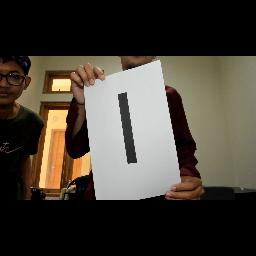i: (113, 88, 141, 170)
